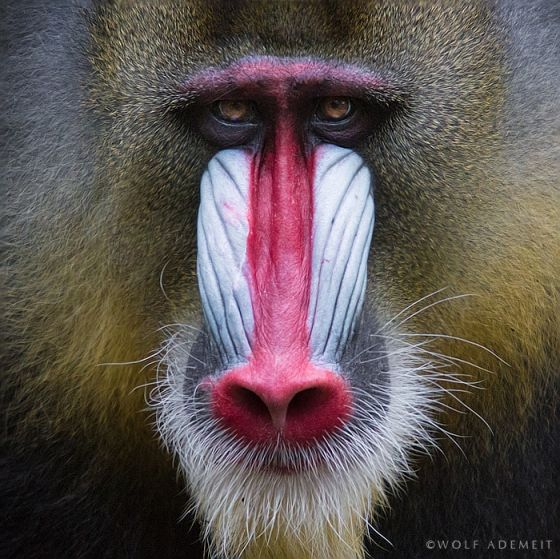Mandrill: (42, 12, 514, 516)
